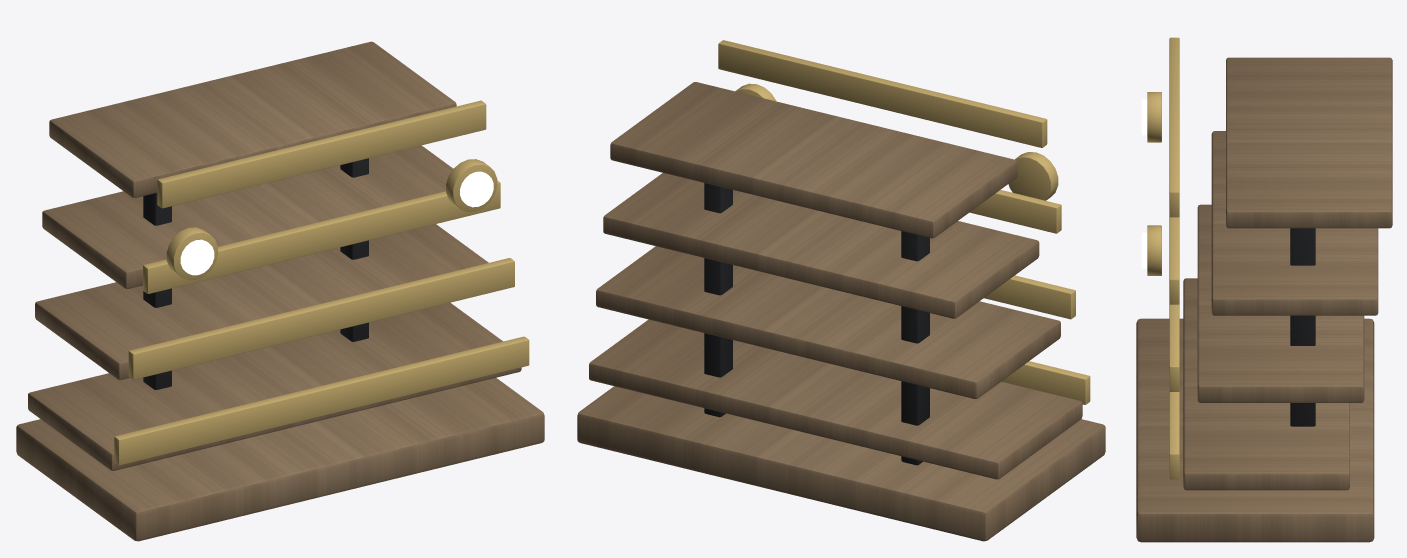
Rendered from pf_display_checkout_display_t3.glb.
3 renders of one model, left to right at view 1: azimuth 30°, elevation 25°; view 2: azimuth 150°, elevation 25°; view 3: azimuth 270°, elevation 25°, orthographic. The views are drawn at different scales.
Visible parts, largest first — view 1: Counter_Display_Base, Riser_04, Riser_01, Riser_02, Riser_03, Riser_Lip_01, Riser_Lip_02, Riser_Lip_04, Riser_Lip_03, Riser_Support_01, LIGHT_HOUSING_01, LIGHT_HOUSING_02 (+3 smaller); view 2: Riser_04, Riser_01, Counter_Display_Base, Riser_02, Riser_03, Riser_Lip_04, Riser_Support_01, Riser_Support_02, Riser_Lip_03, Riser_Lip_02, Riser_Lip_01, LIGHT_HOUSING_01; view 3: Riser_04, Counter_Display_Base, Riser_01, Riser_02, Riser_03, Riser_Support_02, Riser_Lip_04, Riser_Lip_01, Riser_Lip_02, Riser_Lip_03, LIGHT_HOUSING_01, LIGHT_HOUSING_02.
Part boxes in pixels (x1=…): Counter_Display_Base: x1=16, y1=378, x2=544, y2=541; Riser_04: x1=49, y1=41, x2=456, y2=197; Riser_01: x1=28, y1=302, x2=521, y2=470; Riser_02: x1=35, y1=224, x2=488, y2=379; Riser_03: x1=42, y1=145, x2=453, y2=288; Riser_Lip_01: x1=114, y1=336, x2=529, y2=465; Riser_Lip_02: x1=128, y1=258, x2=514, y2=379; Riser_Lip_04: x1=157, y1=100, x2=486, y2=208; Riser_Lip_03: x1=143, y1=180, x2=500, y2=293; Riser_Support_01: x1=143, y1=193, x2=171, y2=389; LIGHT_HOUSING_01: x1=166, y1=227, x2=217, y2=280; LIGHT_HOUSING_02: x1=446, y1=159, x2=497, y2=211; Riser_04: x1=610, y1=82, x2=1017, y2=238; Riser_01: x1=589, y1=319, x2=1082, y2=479; Counter_Display_Base: x1=577, y1=386, x2=1105, y2=541; Riser_02: x1=596, y1=246, x2=1060, y2=398; Riser_03: x1=603, y1=173, x2=1039, y2=318; Riser_Lip_04: x1=718, y1=40, x2=1047, y2=147; Riser_Support_01: x1=901, y1=231, x2=929, y2=465; Riser_Support_02: x1=704, y1=183, x2=732, y2=417; Riser_Lip_03: x1=969, y1=190, x2=1061, y2=233; Riser_Lip_02: x1=984, y1=275, x2=1075, y2=319; Riser_Lip_01: x1=1001, y1=361, x2=1090, y2=404; LIGHT_HOUSING_01: x1=1008, y1=152, x2=1058, y2=200; Riser_04: x1=1226, y1=57, x2=1392, y2=228; Counter_Display_Base: x1=1136, y1=318, x2=1374, y2=542; Riser_01: x1=1183, y1=278, x2=1349, y2=490; Riser_02: x1=1197, y1=204, x2=1364, y2=402; Riser_03: x1=1211, y1=131, x2=1378, y2=315; Riser_Support_02: x1=1290, y1=228, x2=1315, y2=426; Riser_Lip_04: x1=1169, y1=37, x2=1179, y2=217; Riser_Lip_01: x1=1169, y1=391, x2=1179, y2=479; Riser_Lip_02: x1=1169, y1=304, x2=1179, y2=391; Riser_Lip_03: x1=1169, y1=217, x2=1179, y2=304; LIGHT_HOUSING_01: x1=1147, y1=92, x2=1161, y2=142; LIGHT_HOUSING_02: x1=1147, y1=225, x2=1161, y2=275.
Bounding box in the file's own units: 0.82 × 0.65 × 0.452.
Materials: 5 (2 with a texture image).
